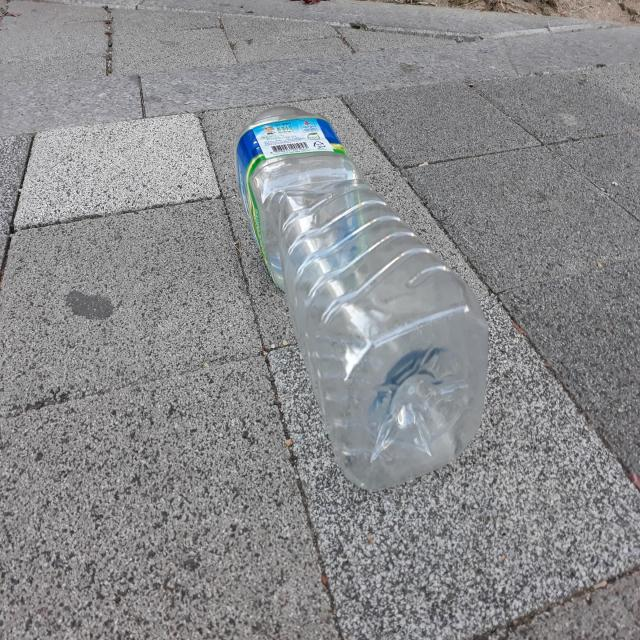plastic: (236, 106, 489, 491)
